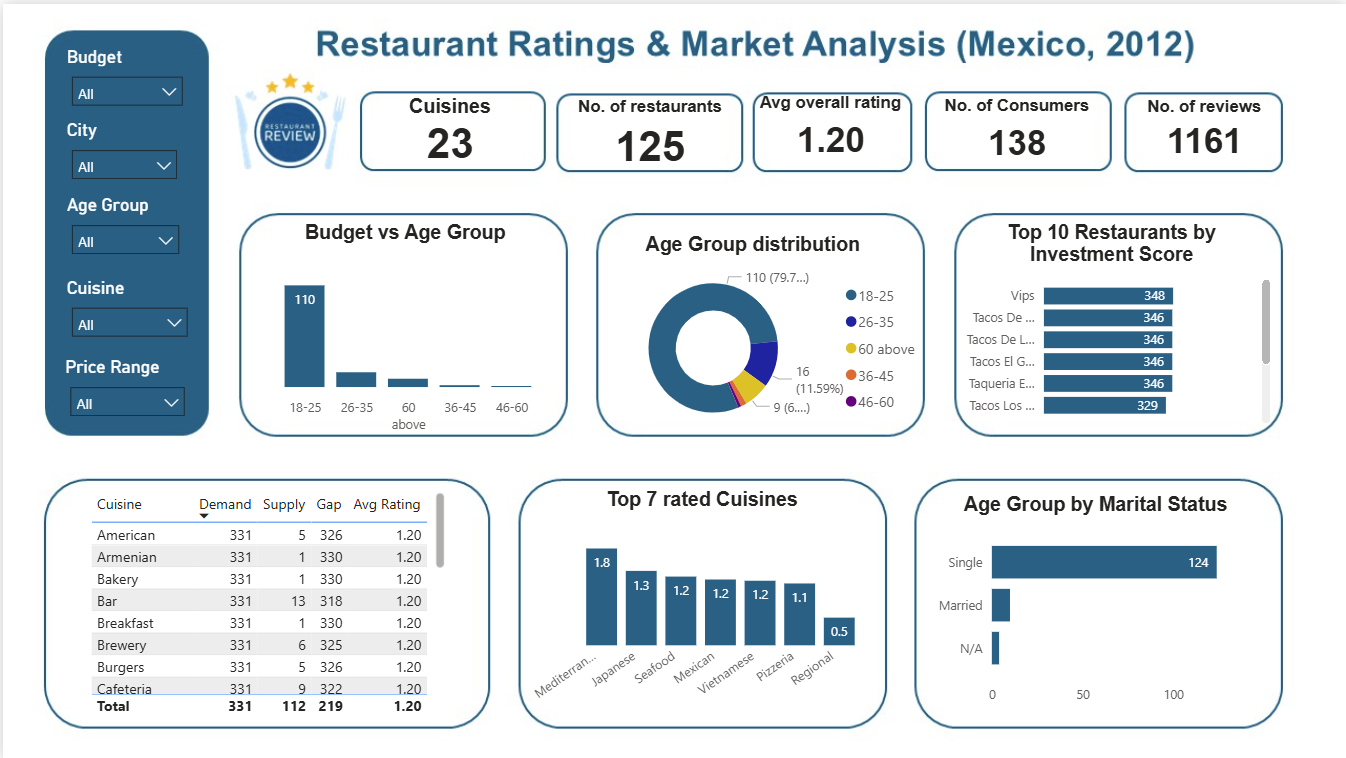

This screenshot's page, from the dashboard's own definition file:
{"tool":"powerbi","page":{"name":"Page 1","canvas":[1280,720],"ordinal":0},"visuals":[{"type":"clusteredColumnChart","title":"Top 7 rated Cuisines","fields":{"Y":["Avg(q1.avg_overall_rating)"],"Category":["q1.cuisine"]},"box":[500,461.7,331.7,215],"z":0},{"type":"tableEx","fields":{"Values":["restaurant_cuisines.Cuisine","restaurants.Cuisine Demand","restaurants.Cuisine Supply","restaurants.Cuisine Gap","restaurant_cuisines.Avg Rating by Cuisine"]},"box":[78.6,459.8,347.1,222.9],"z":1000},{"type":"clusteredColumnChart","title":"Budget vs Age Group","fields":{"Category":["consumers.Age group"],"Y":["CountNonNull(consumers.Budget)"]},"box":[236.7,206.7,291.7,208.3],"z":2000},{"type":"barChart","title":"Age Group by Marital Status","fields":{"Y":["CountNonNull(consumers.Age group)"],"Category":["consumers.Marital_Status"]},"box":[881.7,465,318.3,210],"z":3000},{"type":"card","title":"Avg overall rating","fields":{"Values":["restaurant_cuisines.Avg Overall Rating"]},"box":[706.7,85,161.7,70],"z":4000},{"type":"card","title":"No. of restaurants","fields":{"Values":["Count(restaurants.Name)"]},"box":[528.3,88.3,175,71.7],"z":5000},{"type":"slicer","title":"Budget","fields":{"Values":["consumers.Budget"]},"box":[55,40,125,68.3],"z":6000},{"type":"slicer","title":"City","fields":{"Values":["consumers.City"]},"box":[55,110,120,68.3],"z":7000},{"type":"slicer","title":"Cuisine","fields":{"Values":["q1.cuisine"]},"box":[55,260,130,68.3],"z":8000},{"type":"slicer","title":"Age Group","fields":{"Values":["consumers.Age group"]},"box":[55,181.7,121.7,71.7],"z":9000},{"type":"slicer","title":"Price Range","fields":{"Values":["restaurants.Price"]},"box":[54.3,335.7,128.6,68.6],"z":10000},{"type":"card","title":"Cuisines","fields":{"Values":["Count(restaurant_cuisines.Cuisine)"]},"box":[341.7,86.7,168.3,65],"z":11000},{"type":"pieChart","title":"Age Group distribution","fields":{"Category":["consumers.Age group"],"Y":["CountNonNull(consumers.Age group)"]},"box":[545,218.3,336.7,196.7],"z":12000},{"type":"barChart","title":"Top 10 Restaurants by Investment Score","fields":{"Y":["restaurants.Investment Score"],"Category":["restaurants.Name"]},"box":[900,206.7,311.7,196.7],"z":13000},{"type":"card","title":"No. of reviews","fields":{"Values":["restaurants.Restaurant Reviews"]},"box":[1075,88.3,136.7,63.3],"z":14000},{"type":"card","title":"No. of Consumers","fields":{"Values":["Count(consumers.Consumer_ID)"]},"box":[881.7,86.7,168.3,70],"z":15000}]}

Visuals, with their boxes in screenshot pixels (x1, y1, x2, y2), scaled from the page's 1280x720 canvas onto the 1346x758 screenshot:
"Top 7 rated Cuisines" clusteredColumnChart: (x1=526, y1=486, x2=875, y2=712)
tableEx - restaurant_cuisines.Cuisine x restaurants.Cuisine Demand: (x1=83, y1=484, x2=448, y2=719)
"Budget vs Age Group" clusteredColumnChart: (x1=249, y1=218, x2=556, y2=437)
"Age Group by Marital Status" barChart: (x1=927, y1=490, x2=1262, y2=711)
"Avg overall rating" card: (x1=743, y1=89, x2=913, y2=163)
"No. of restaurants" card: (x1=556, y1=93, x2=740, y2=168)
"Budget" slicer: (x1=58, y1=42, x2=189, y2=114)
"City" slicer: (x1=58, y1=116, x2=184, y2=188)
"Cuisine" slicer: (x1=58, y1=274, x2=195, y2=346)
"Age Group" slicer: (x1=58, y1=191, x2=186, y2=267)
"Price Range" slicer: (x1=57, y1=353, x2=192, y2=426)
"Cuisines" card: (x1=359, y1=91, x2=536, y2=160)
"Age Group distribution" pieChart: (x1=573, y1=230, x2=927, y2=437)
"Top 10 Restaurants by Investment Score" barChart: (x1=946, y1=218, x2=1274, y2=425)
"No. of reviews" card: (x1=1130, y1=93, x2=1274, y2=160)
"No. of Consumers" card: (x1=927, y1=91, x2=1104, y2=165)
